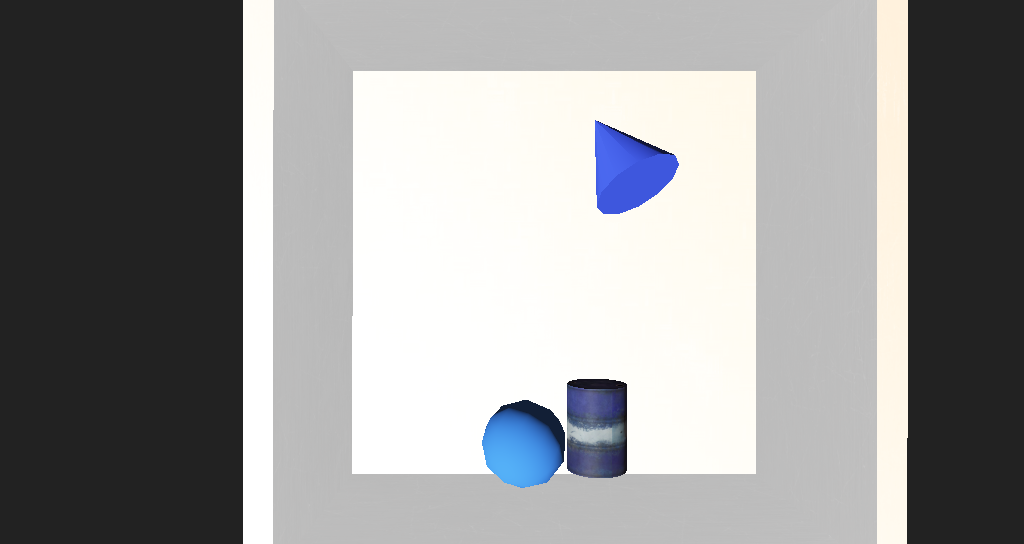cone: (515, 324, 563, 372)
cylinder: (502, 165, 603, 246)
sphere: (455, 336, 515, 379)
